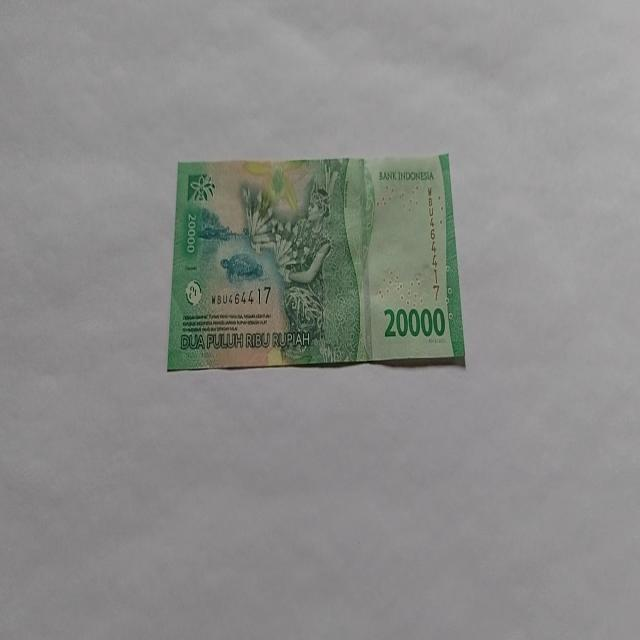dua puluh ribu rupiah: (166, 151, 466, 373)
